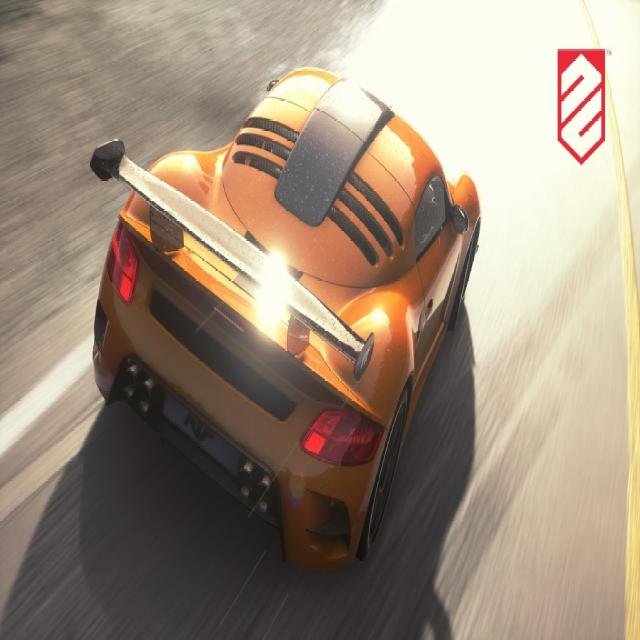car: (86, 60, 480, 578)
